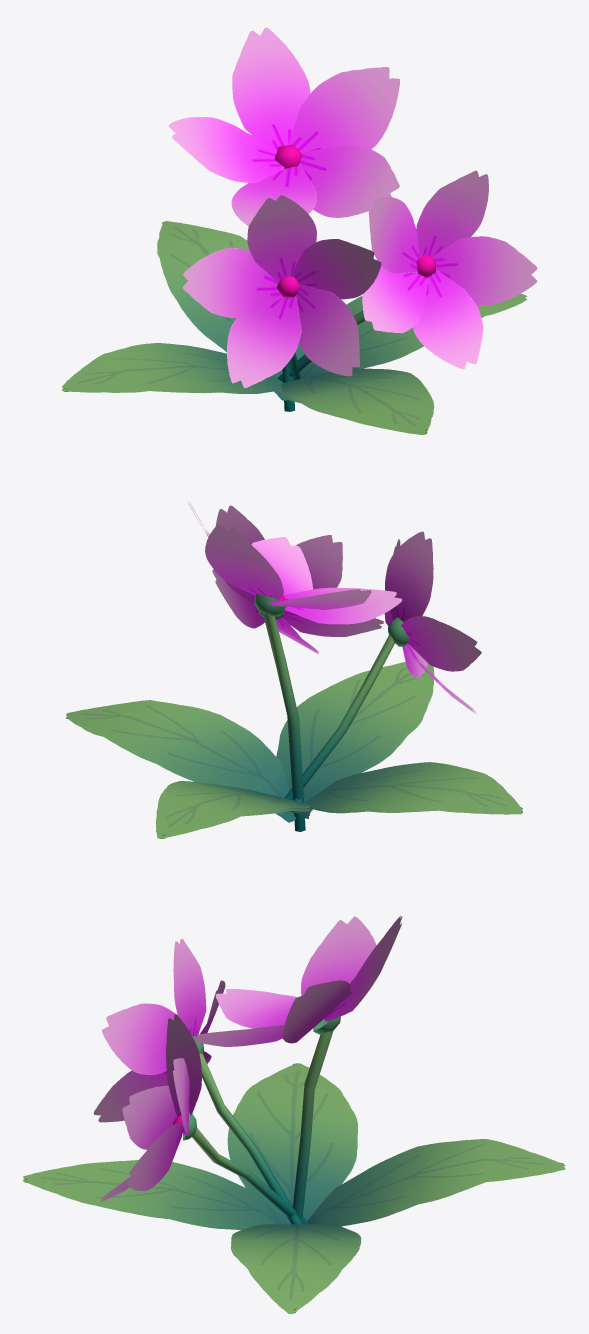
File: hana_blue1.fbx
The picture shows the model from 3 angles, top to bottom: view 1: azimuth 30°, elevation 25°; view 2: azimuth 150°, elevation 25°; view 3: azimuth 270°, elevation 25°; orthographic projection. The views are drawn at different scales.
Visible parts, largest first — view 1: pPlane42 (×3), pPlane41 (×3), pPlane43 (×3), pPlane45 (×3), pPlane44 (×3), pPlane47, pPlane48, pPlane46, pPlane39; view 2: pPlane39, pPlane48, pPlane47, pPlane41 (×3), pPlane45 (×3), pPlane46, pCylinder18 (×2), pPlane44 (×2), pPlane43, pPlane42; view 3: pPlane47, pPlane46, pPlane48, pPlane42 (×3), pPlane39, pCylinder18 (×3), pPlane45 (×2), pPlane41 (×3), pPlane44 (×2), pPlane43 (×2).
Part boxes in pixels (bbox=[...]): pPlane42 (×3): bbox=[288, 67, 537, 305]; pPlane41 (×3): bbox=[232, 27, 488, 283]; pPlane43 (×3): bbox=[296, 145, 483, 376]; pPlane45 (×3): bbox=[168, 117, 419, 317]; pPlane44 (×3): bbox=[227, 164, 428, 388]; pPlane47: bbox=[62, 343, 283, 393]; pPlane48: bbox=[280, 368, 434, 434]; pPlane46: bbox=[157, 221, 303, 400]; pPlane39: bbox=[300, 294, 527, 378]; pPlane39: bbox=[66, 700, 296, 822]; pPlane48: bbox=[276, 662, 434, 802]; pPlane47: bbox=[295, 762, 522, 814]; pPlane41 (×3): bbox=[205, 505, 433, 622]; pPlane45 (×3): bbox=[268, 535, 481, 671]; pPlane46: bbox=[156, 781, 312, 838]; pCylinder18 (×2): bbox=[263, 613, 394, 831]; pPlane44 (×2): bbox=[283, 587, 402, 636]; pPlane43: bbox=[251, 537, 313, 594]; pPlane42: bbox=[212, 569, 264, 628]; pPlane47: bbox=[227, 1063, 357, 1224]; pPlane46: bbox=[307, 1139, 565, 1226]; pPlane48: bbox=[23, 1160, 283, 1230]; pPlane42 (×3): bbox=[102, 980, 350, 1190]; pPlane39: bbox=[231, 1224, 361, 1313]; pCylinder18 (×3): bbox=[192, 1024, 333, 1224]; pPlane45 (×2): bbox=[166, 916, 376, 1117]; pPlane41 (×3): bbox=[173, 916, 402, 1135]; pPlane44 (×2): bbox=[122, 989, 296, 1149]; pPlane43 (×2): bbox=[93, 1025, 284, 1122].
Size of the model in its own units: 3.19 by 2.22 by 3.19.
